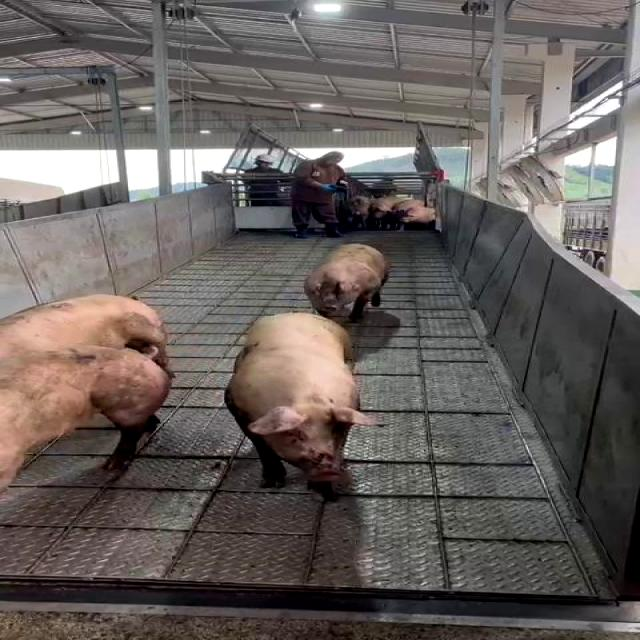pig: (226, 314, 379, 499), (1, 347, 170, 492), (0, 295, 167, 362), (305, 245, 388, 322)
